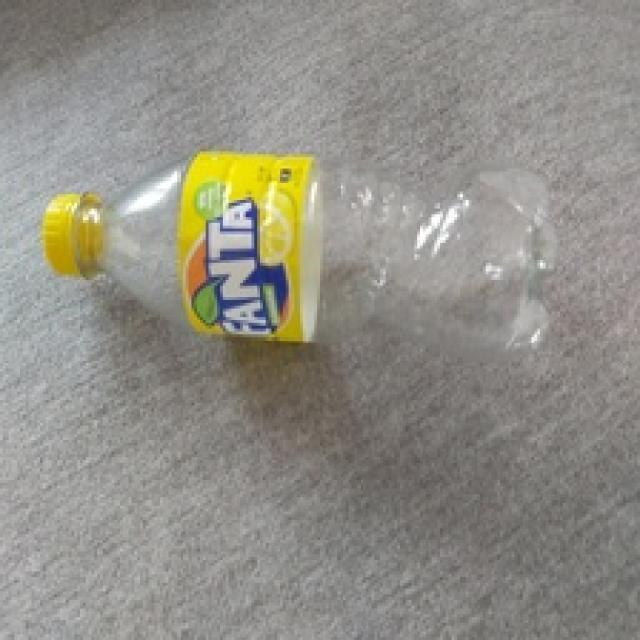Plastic: (44, 150, 570, 357)
